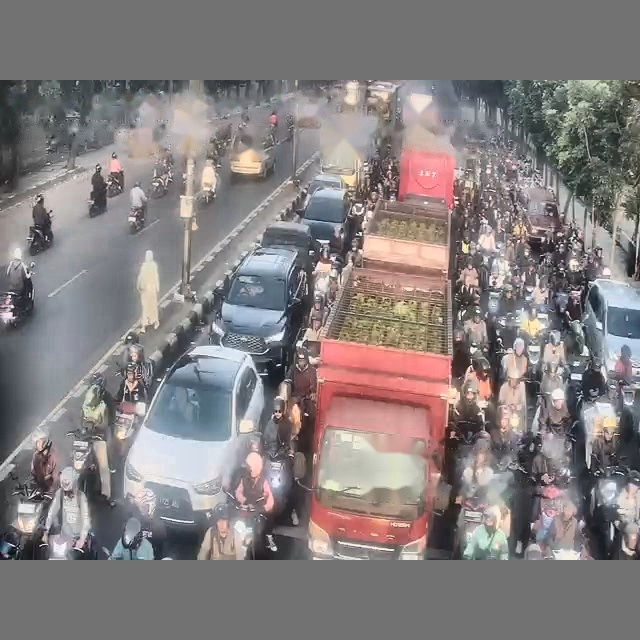Mobil: (124, 345, 264, 529), (213, 247, 308, 375), (582, 279, 639, 382), (260, 221, 320, 280), (298, 188, 351, 254), (229, 146, 276, 179), (301, 173, 344, 206)
Motor: (10, 483, 51, 558), (66, 424, 103, 496), (227, 492, 263, 559), (113, 402, 145, 456), (0, 291, 33, 327), (27, 211, 53, 255), (88, 192, 106, 217), (128, 207, 144, 233), (107, 174, 121, 197)
Truk: (308, 259, 451, 559), (398, 147, 455, 208)
